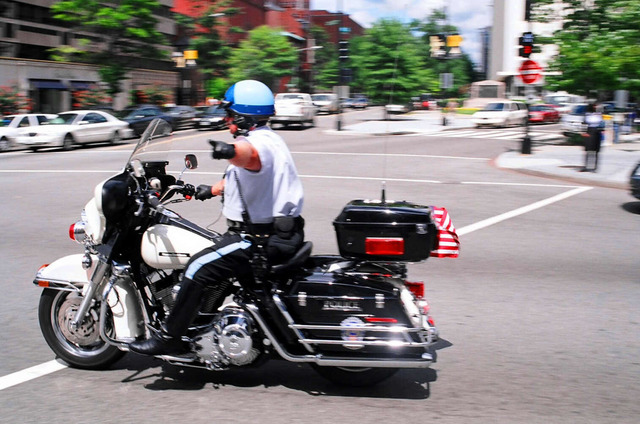helmet: (218, 82, 276, 116)
